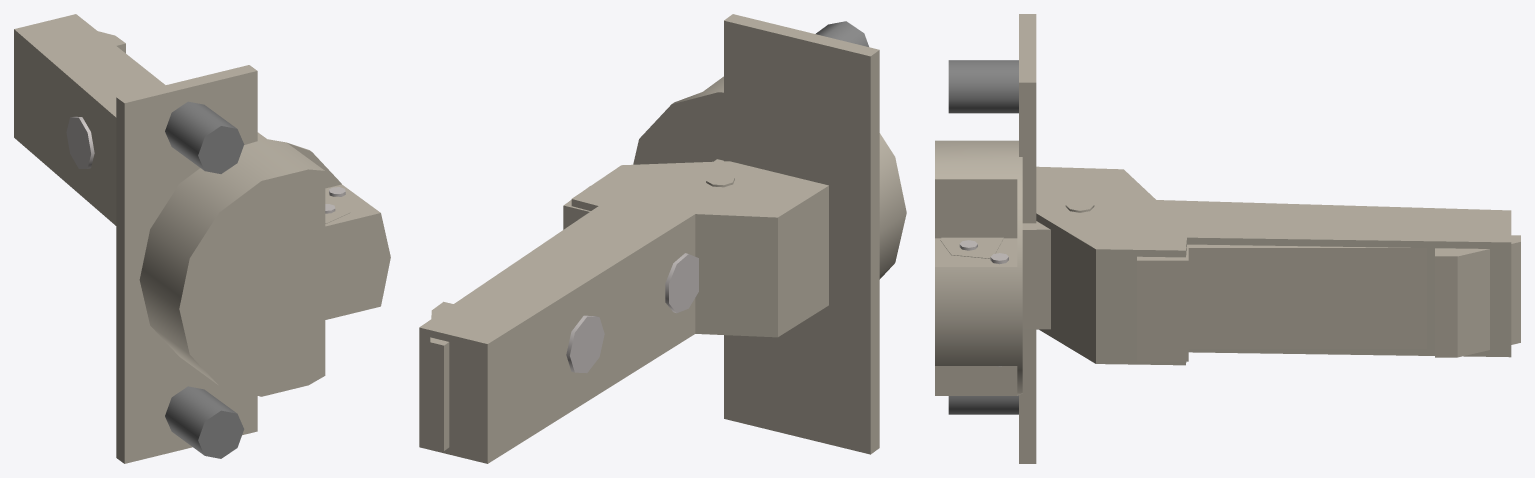
Rendered from 75B168ECB7_47236697.dae.
The picture shows the model from 3 angles, left to right: view 1: azimuth 30°, elevation 25°; view 2: azimuth 150°, elevation 25°; view 3: azimuth 270°, elevation 25°; orthographic projection. The views are drawn at different scales.
Parts seen in each view (by area): view 1: bau0045622955-1, bau0050873340-1, bau0016549175-2; view 2: bau0050873340-1, bau0045622955-1, bau0019426112-1; view 3: bau0050873340-1, bau0019426112-1, bau0045622955-1, bau0016549209-1, bau0016549175-2.
Boxes of the visible parts, bbox=[...] form: bau0045622955-1: bbox=[116, 65, 390, 463]; bau0050873340-1: bbox=[14, 14, 265, 225]; bau0016549175-2: bbox=[325, 196, 350, 223]; bau0050873340-1: bbox=[419, 161, 828, 463]; bau0045622955-1: bbox=[633, 14, 906, 454]; bau0019426112-1: bbox=[430, 186, 590, 450]; bau0050873340-1: bbox=[1036, 166, 1511, 365]; bau0019426112-1: bbox=[1137, 235, 1520, 361]; bau0045622955-1: bbox=[935, 14, 1036, 463]; bau0016549209-1: bbox=[1022, 221, 1050, 329]; bau0016549175-2: bbox=[940, 237, 1003, 258].
Size of the model in its own units: 37.5 by 57 by 79.35.
